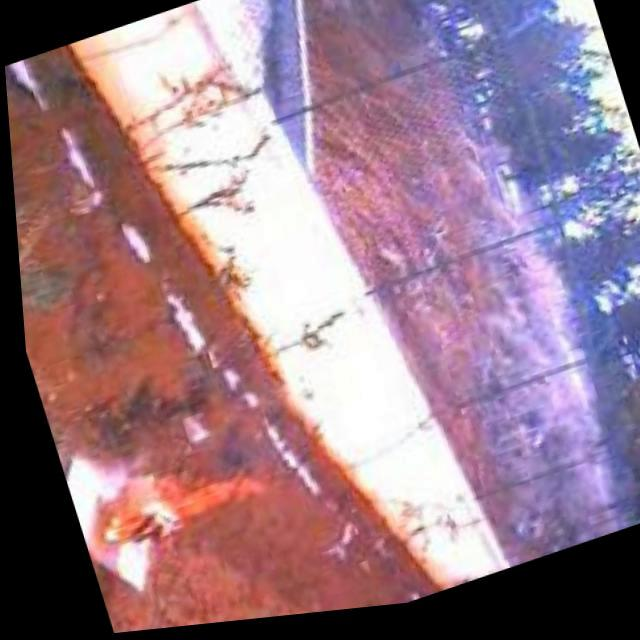fire: (70, 437, 272, 568)
